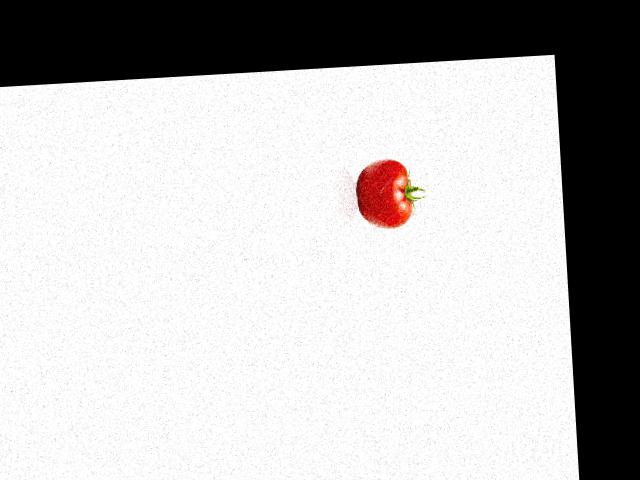tomato: (354, 156, 413, 230)
